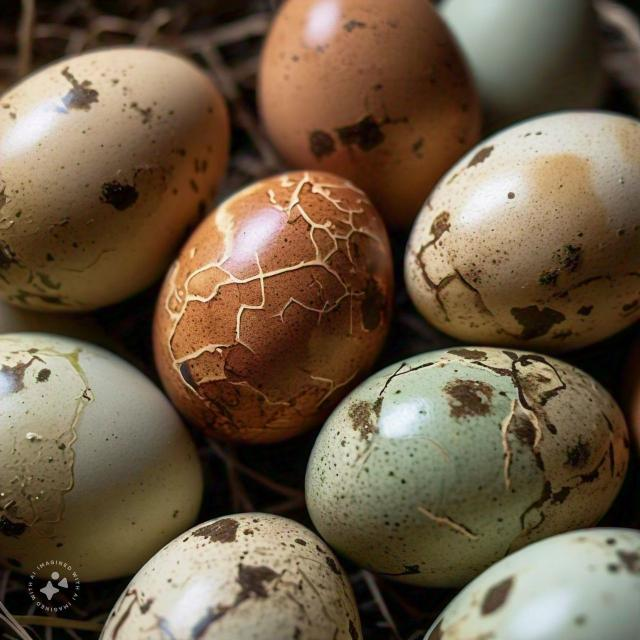Dirt Stained Egg: (308, 328, 621, 584), (148, 168, 391, 465), (10, 54, 216, 342), (258, 14, 464, 203)
